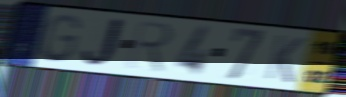4: (172, 24, 212, 79)
7: (228, 26, 266, 83)
G: (38, 13, 82, 64)
J: (78, 15, 127, 70)
K: (263, 32, 307, 85)
R: (125, 19, 176, 75)
